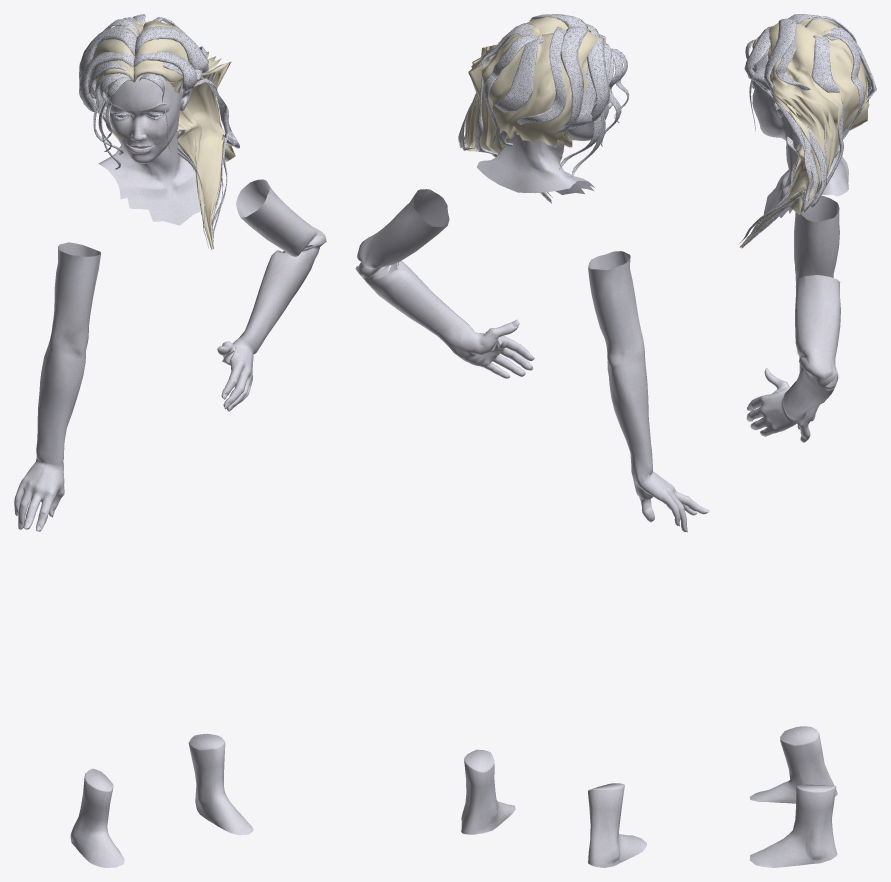
Rendered from skeleton.dae.
3 renders of one model, left to right at view 1: azimuth 30°, elevation 25°; view 2: azimuth 150°, elevation 25°; view 3: azimuth 270°, elevation 25°, orthographic. The views are drawn at different scales.
Parts seen in each view (by area): view 1: instance_1_025, instance_1_009, instance_1_031, instance_0, instance_1_040, instance_1_037, instance_0_004, instance_0_011, instance_0_003, instance_0_005, instance_0_002; view 2: instance_1_031, instance_1_025, instance_0, instance_1_009, instance_1_037, instance_1_040, instance_0_006, instance_0_005, instance_0_010, instance_0_003, instance_0_007, instance_0_008; view 3: instance_0, instance_1_031, instance_1_040, instance_1_025, instance_1_037, instance_1_009, instance_0_011, instance_0_004, instance_0_007, instance_0_002, instance_0_008, instance_0_006 (+1 smaller).
Boxes of the visible parts, x1,y1,x2,y2 form: instance_1_025: (14,242,100,531); instance_1_009: (98,74,200,225); instance_1_031: (217,179,326,410); instance_0: (89,20,235,249); instance_1_040: (188,733,253,835); instance_1_037: (70,768,124,867); instance_0_004: (133,51,239,236); instance_0_011: (135,26,222,240); instance_0_003: (79,52,207,238); instance_0_005: (79,26,183,156); instance_0_002: (162,62,236,244); instance_1_031: (355,189,533,378); instance_1_025: (588,251,707,531); instance_0: (465,16,611,203); instance_1_009: (477,100,612,194); instance_1_037: (588,783,646,867); instance_1_040: (461,749,515,834); instance_0_006: (492,38,543,195); instance_0_005: (540,26,591,200); instance_0_010: (517,26,566,124); instance_0_003: (542,35,609,198); instance_0_007: (475,23,535,157); instance_0_008: (484,34,537,145); instance_0: (739,18,869,247); instance_1_031: (747,275,840,436); instance_1_040: (749,784,837,867); instance_1_025: (794,195,839,441); instance_1_037: (749,726,837,803); instance_1_009: (752,65,848,217); instance_0_011: (744,18,827,242); instance_0_004: (744,26,819,239); instance_0_007: (741,35,843,247); instance_0_002: (738,49,812,244); instance_0_008: (823,33,864,146); instance_0_006: (741,27,876,248).
Bounding box in the file's own units: 0.6745 × 0.2534 × 1.62.
